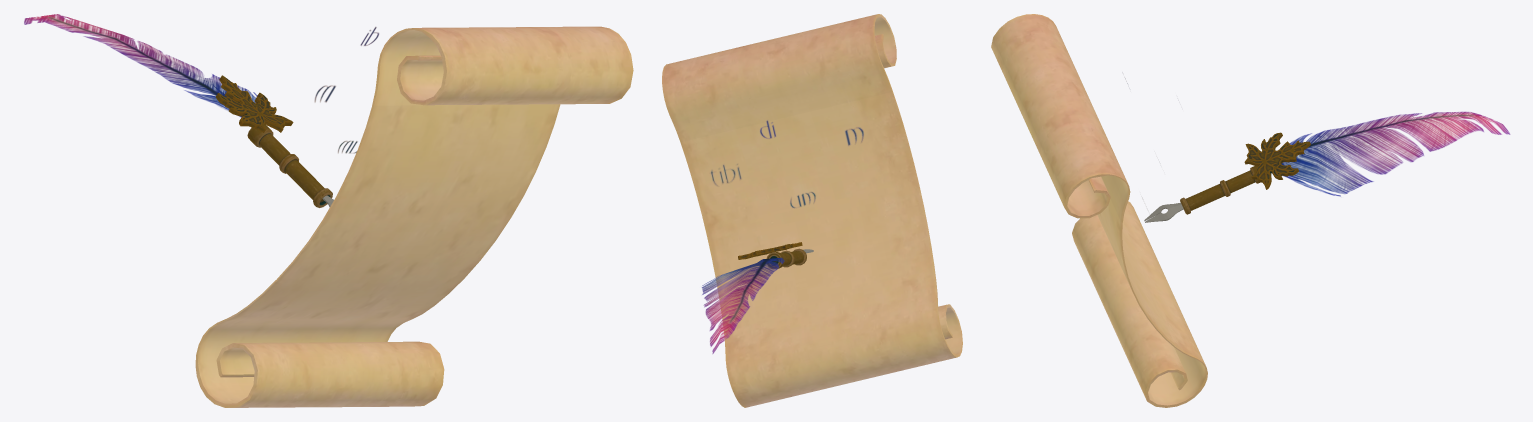
The model's file is poet-scroll-v1-transformed.glb.
The picture shows the model from 3 angles, left to right: view 1: azimuth 30°, elevation 25°; view 2: azimuth 150°, elevation 25°; view 3: azimuth 270°, elevation 25°; orthographic projection. The views are drawn at different scales.
Visible parts, largest first — view 1: g; view 2: g; view 3: g.
Boxes of the visible parts, bbox=[...] form: g: bbox=[24, 14, 633, 407]; g: bbox=[662, 14, 962, 407]; g: bbox=[991, 14, 1510, 407].
Bounding box in the file's own units: 0.4472 × 0.4922 × 0.6471.
Materials: 1 (1 with a texture image).
